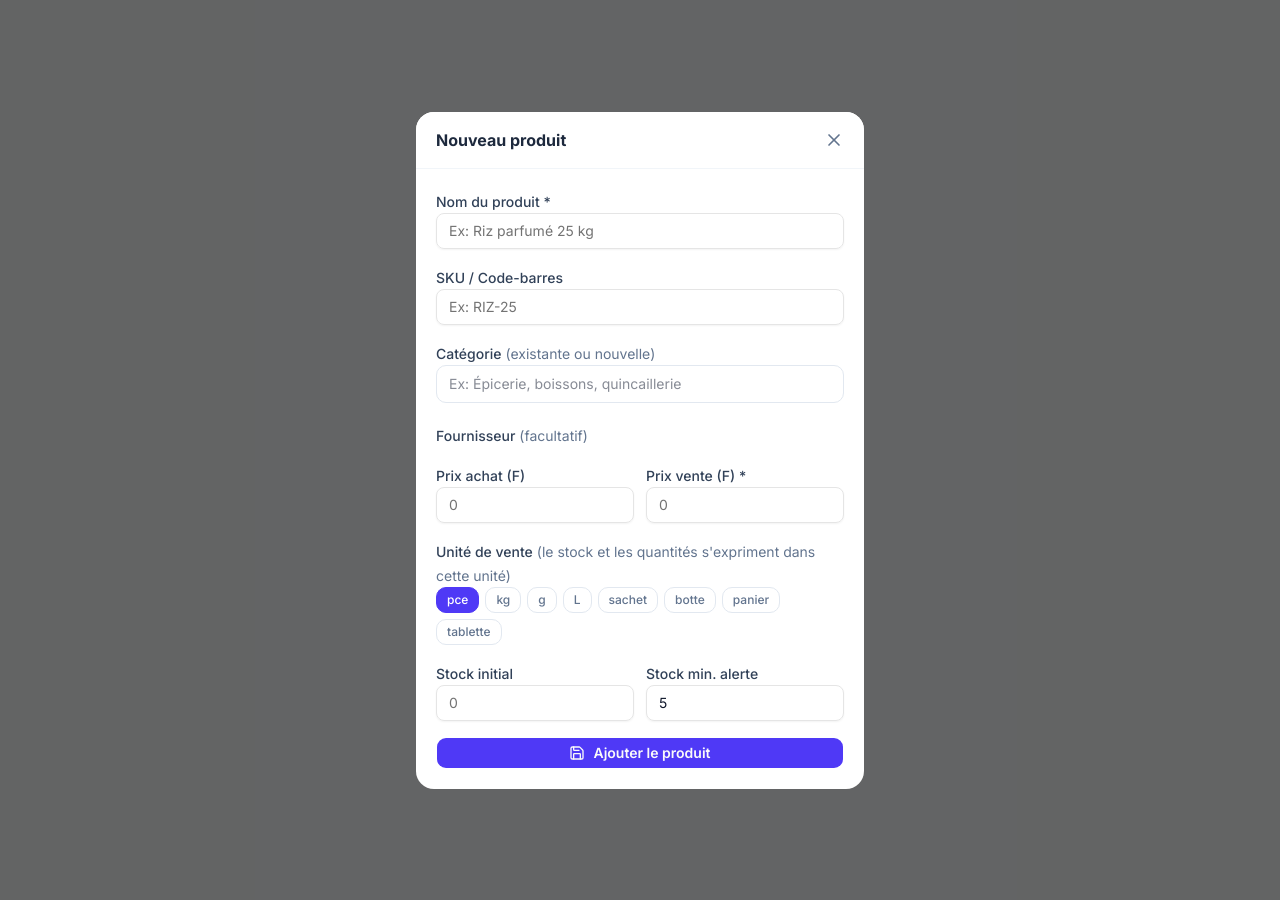
Test case: ProductForm › refuse un montant négatif
Type "Riz" into the field labelled "Nom du produit *". click: [640, 230]
box: top-left (436, 212), bottom-right (844, 248)
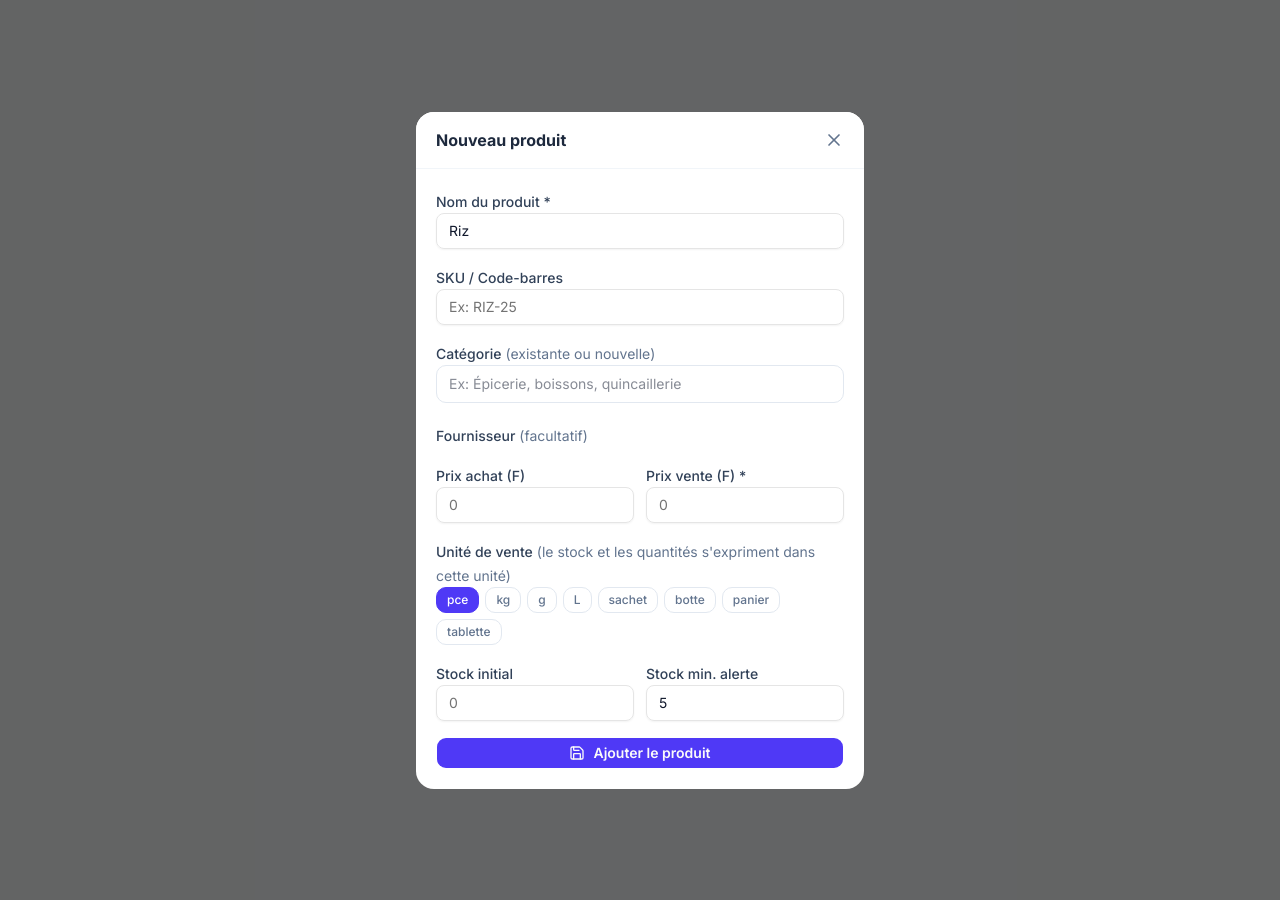
Type "-5" into the number field labelled "Prix vente (F) *". click: [745, 504]
box: top-left (646, 486), bottom-right (844, 522)
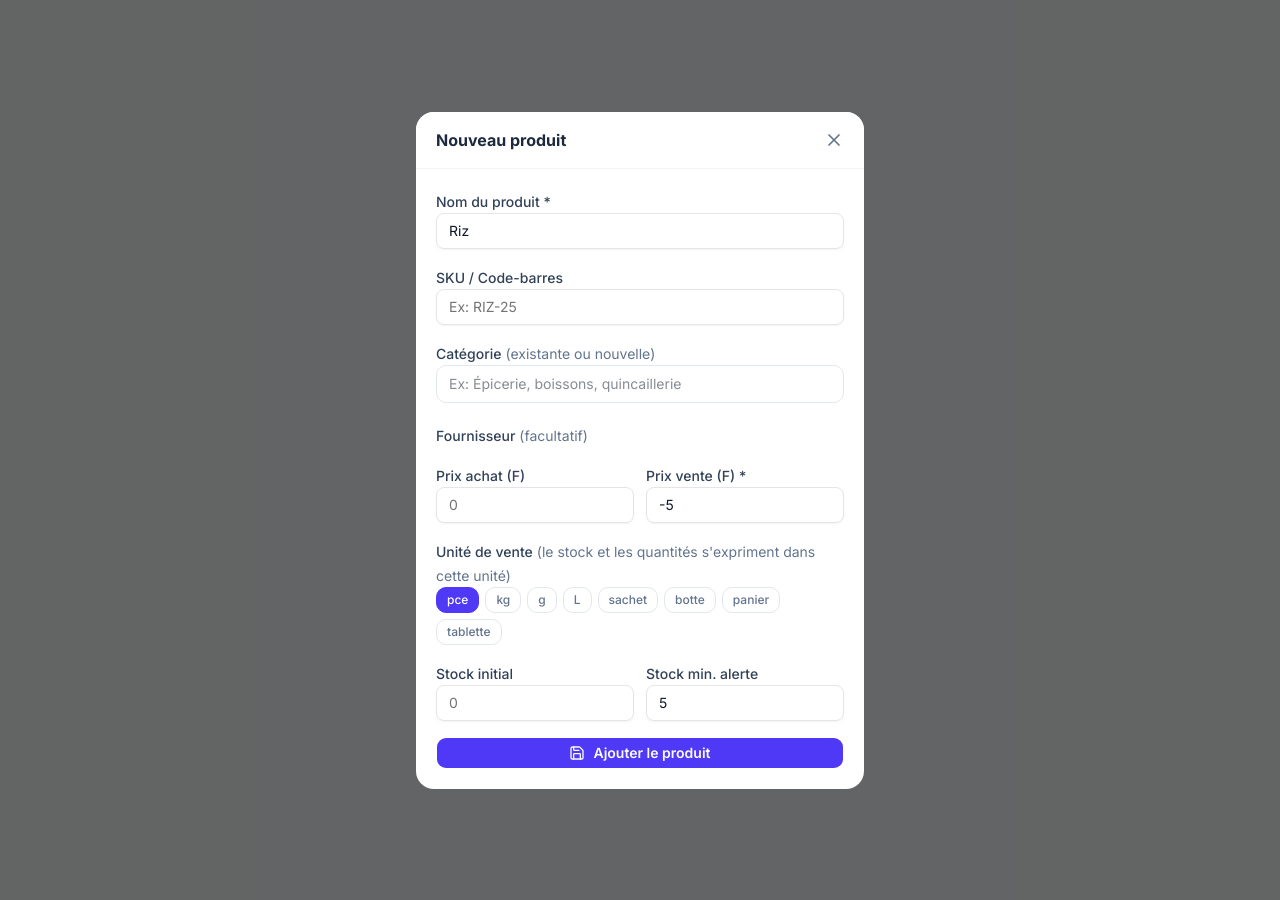
Submit the form, box top-left (416, 168), bottom-right (864, 788)
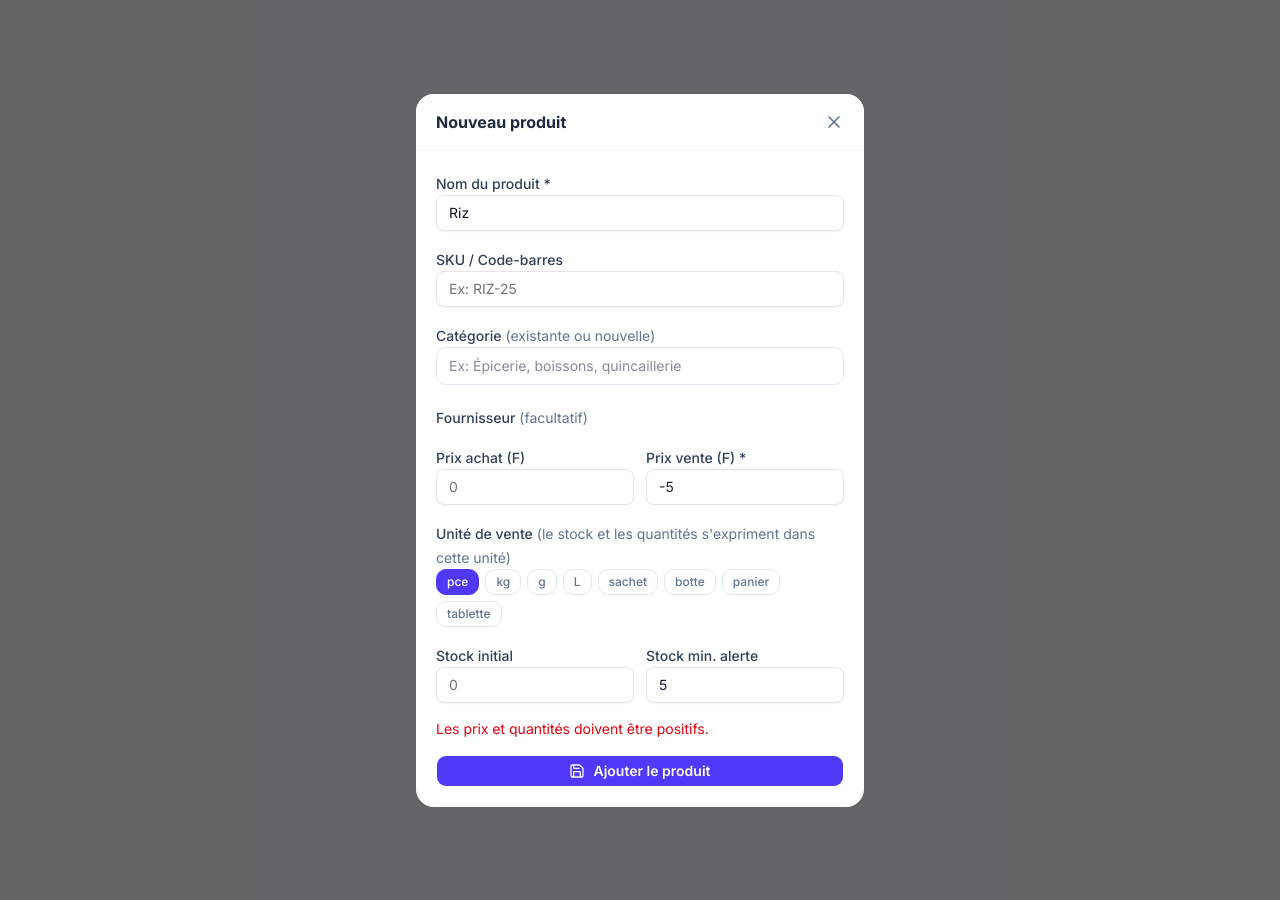
Now the text "Les prix et quantités doivent être positifs." is shown, box top-left (436, 720), bottom-right (709, 736)
